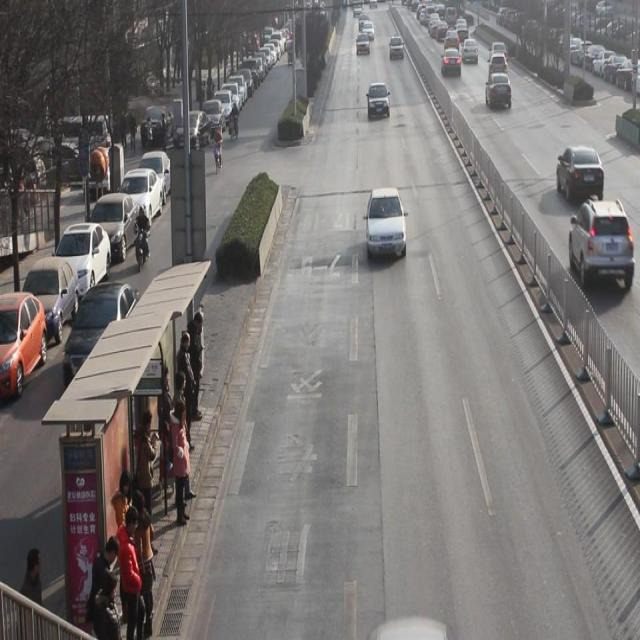car: (62, 282, 141, 404), (569, 195, 634, 287), (556, 143, 605, 203), (366, 188, 407, 258), (485, 74, 512, 112), (367, 82, 390, 122), (442, 46, 462, 78), (461, 38, 479, 67), (487, 54, 508, 74), (390, 35, 403, 59), (356, 32, 369, 56), (445, 26, 459, 45), (361, 21, 374, 41), (491, 42, 503, 52)
